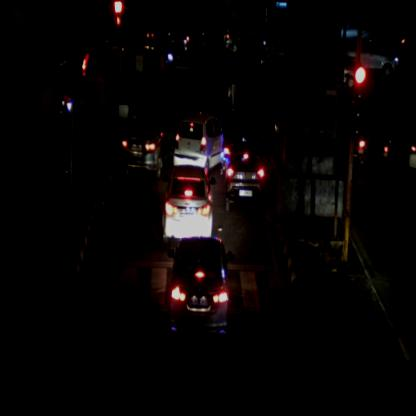car: (166, 237, 234, 345), (160, 164, 212, 240), (119, 112, 174, 176), (172, 114, 226, 173), (224, 141, 266, 214), (344, 39, 398, 76), (145, 23, 188, 51)
motorcycle: (379, 106, 395, 164), (356, 108, 368, 174)
